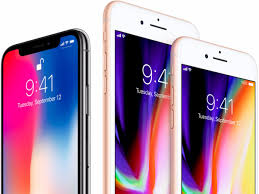iphone: (1, 27, 90, 194), (171, 32, 259, 194)
iphone10: (1, 29, 89, 193), (171, 32, 259, 194)
